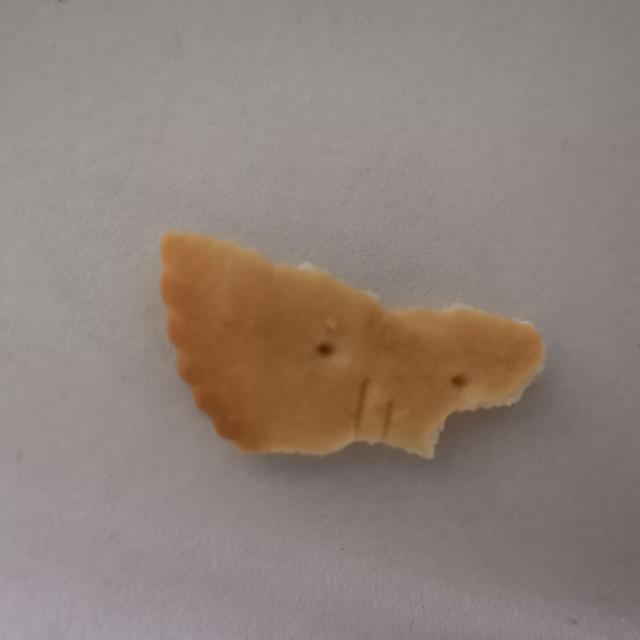Broken: (158, 228, 546, 460)
